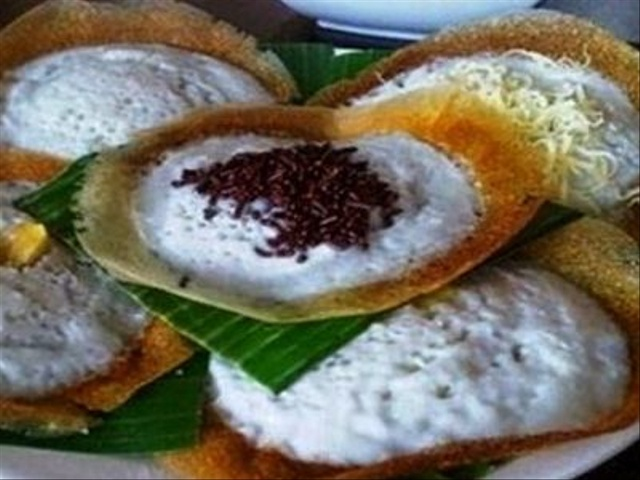srabi: (62, 95, 532, 326)
